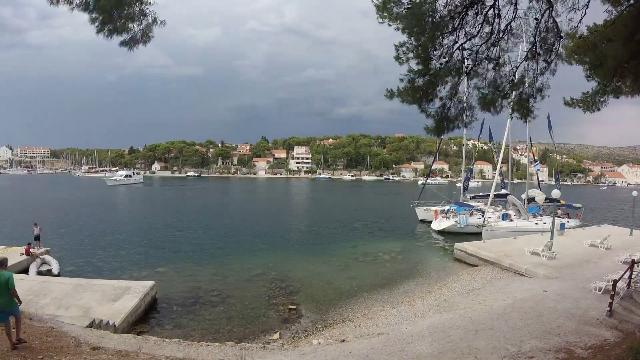ferry: (100, 166, 152, 187)
